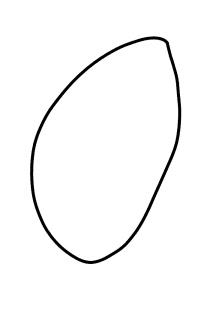Circle: (26, 34, 183, 265)
